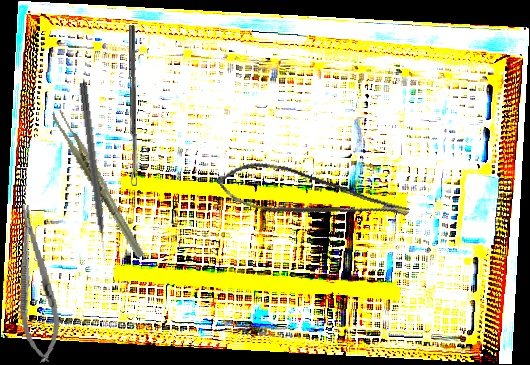Micro Scissor: (213, 149, 412, 251)
Needle Holder: (7, 202, 65, 365)
Pusher: (77, 82, 109, 262)
Surgical Spoon: (127, 24, 138, 187)
Tissue Forceps: (49, 98, 147, 270)
